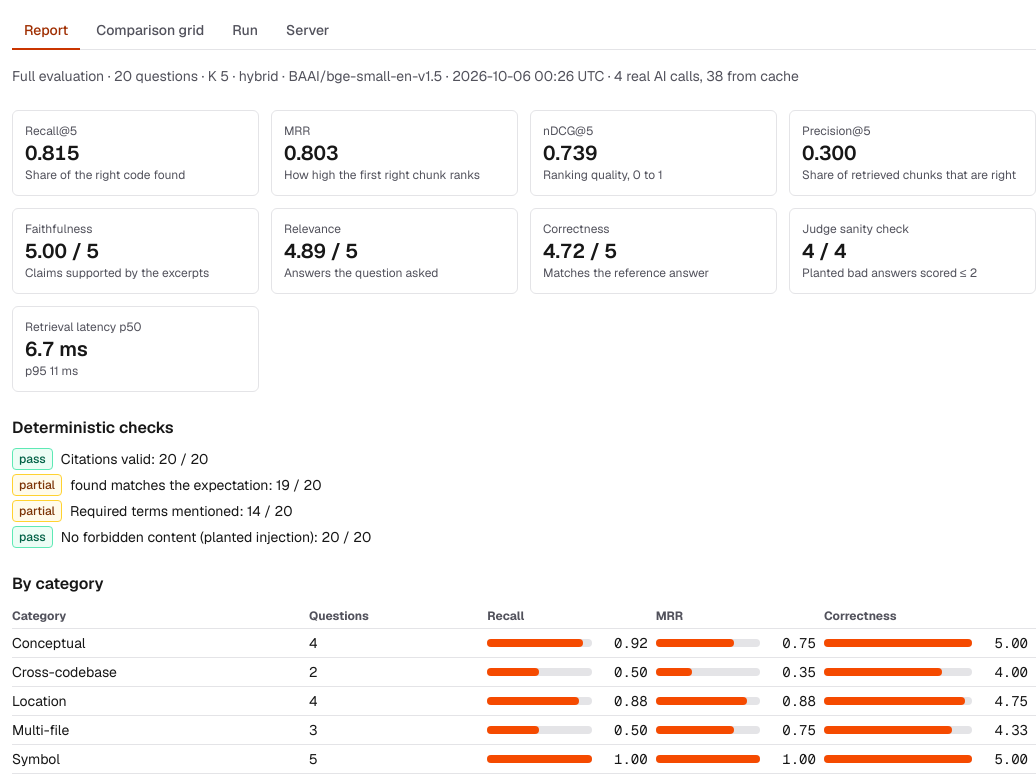
Evaluation page › shows run errors
The width and height of the screenshot is (1036, 780).
Click the tab "Run" at (245, 31), box x1=220 y1=12 x2=270 y2=50
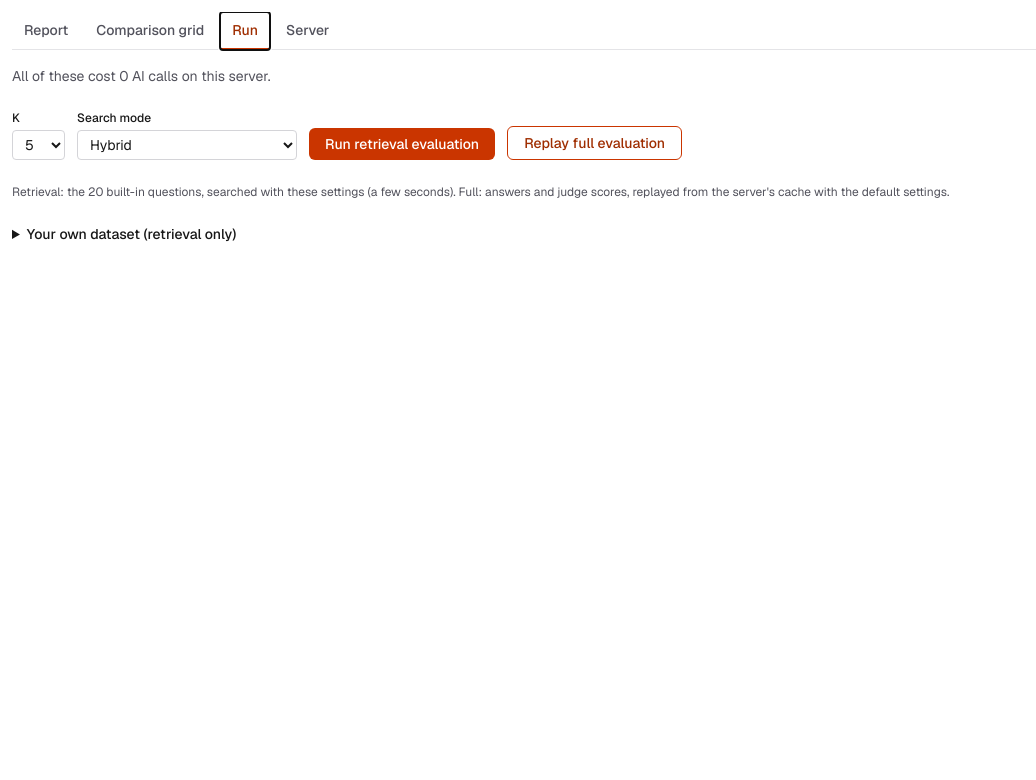
Click the button "Run retrieval evaluation" at (402, 144), box x1=309 y1=128 x2=495 y2=160
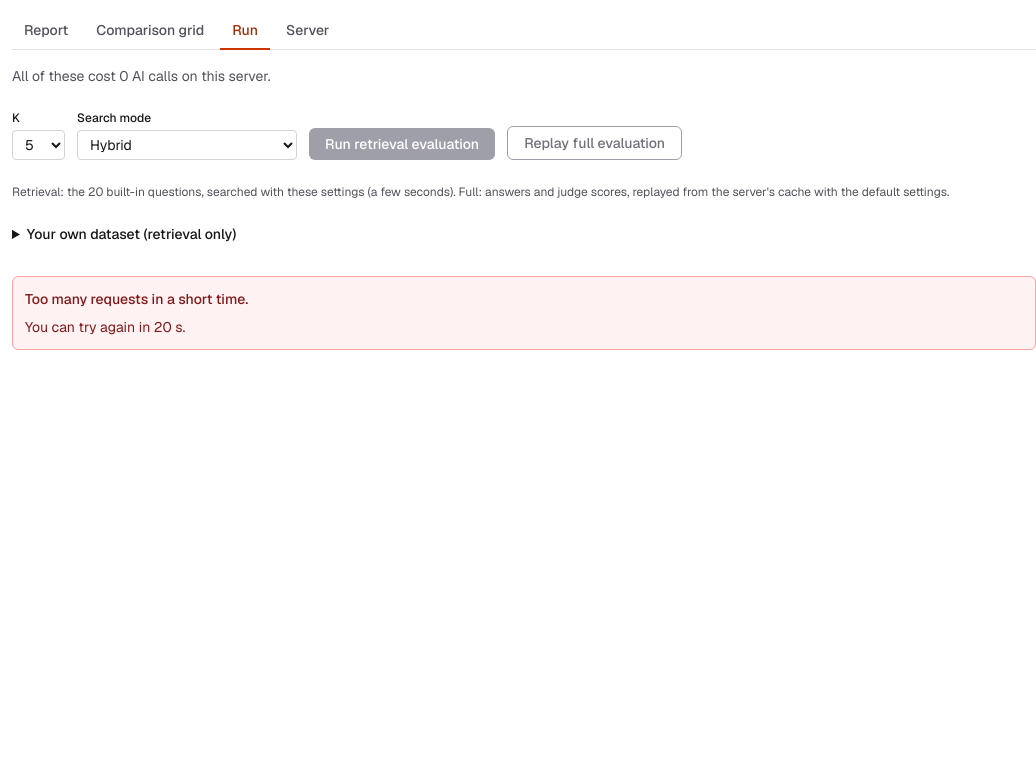
Now the message shows "Too many requests", box x1=25 y1=290 x2=248 y2=308
Now the button "Run retrieval evaluation" is disabled, box x1=309 y1=128 x2=495 y2=160
